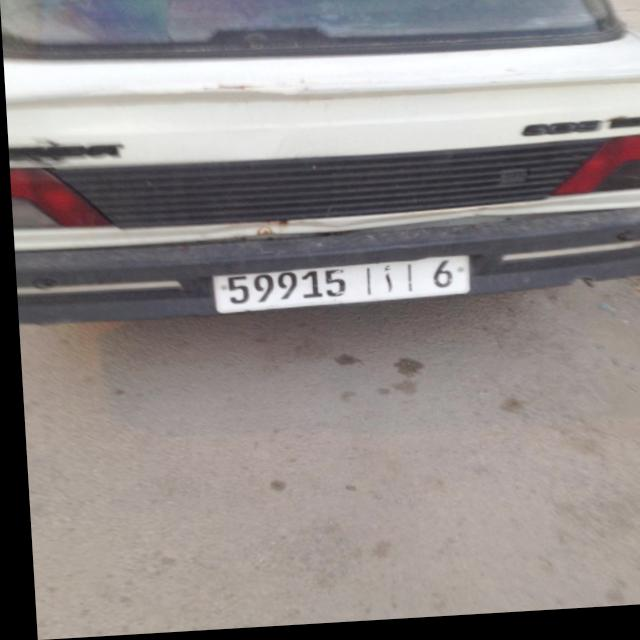License-Plate: (210, 262, 466, 316)
